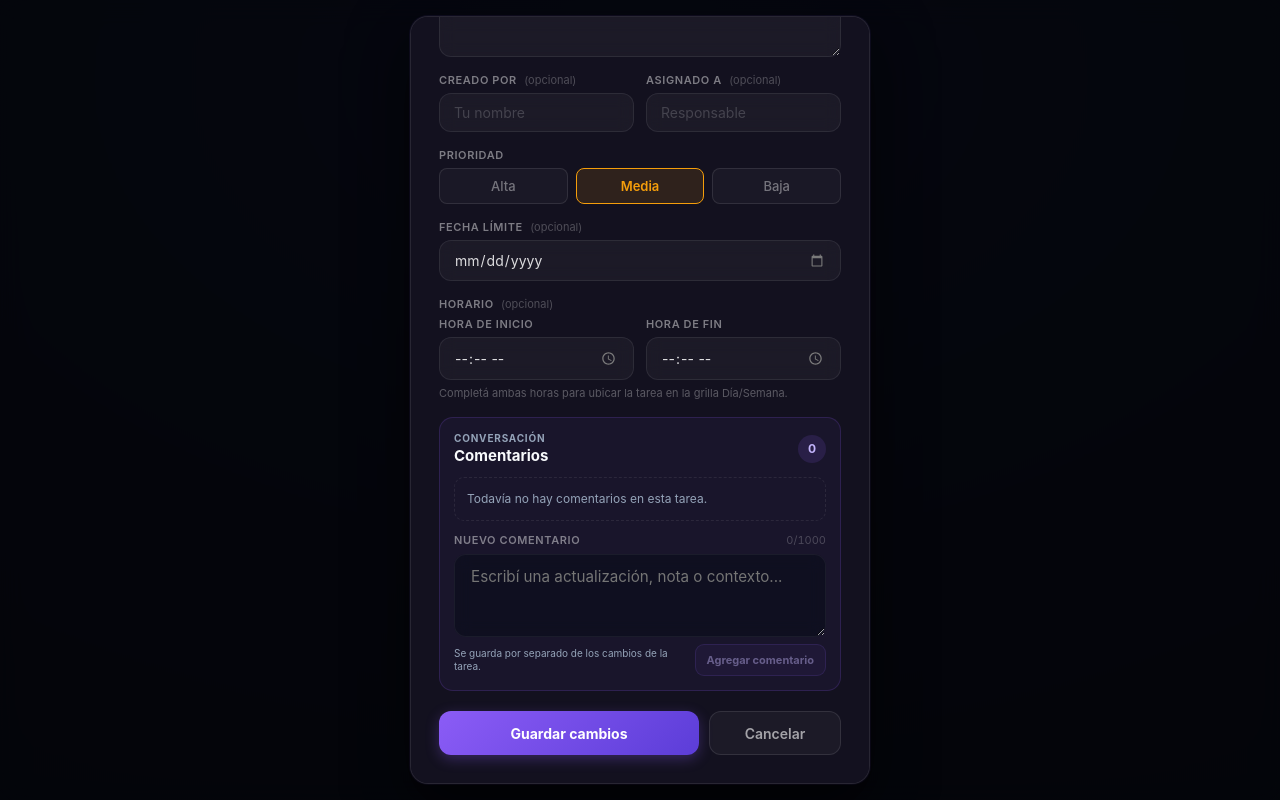
Test: TaskForm › B8.3 conserva el texto y muestra error si falla el comentario
(page scrolled)
Type "No perder este texto" into the text box labelled "Nuevo comentario" at x=640, y=596, box [454,554,826,637]
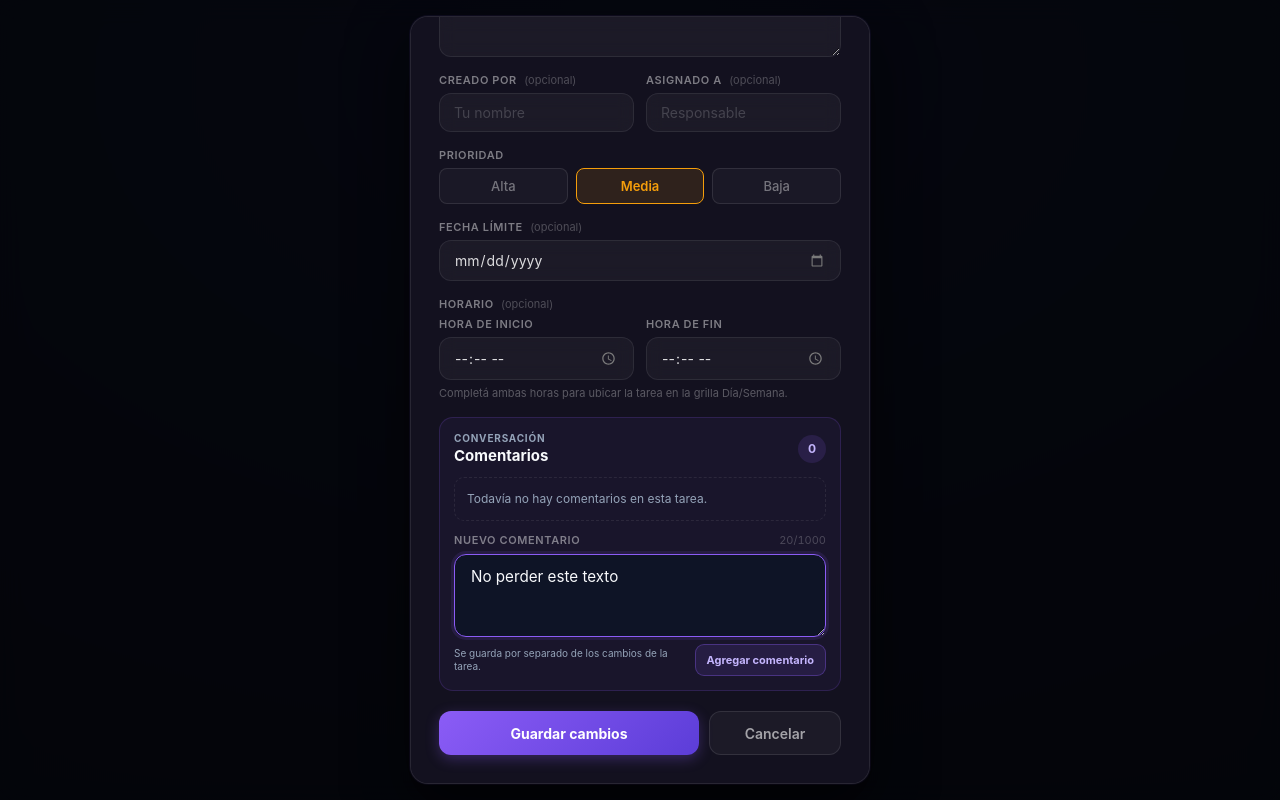
Click the button "Agregar comentario" at x=760, y=660, box [694,644,826,676]
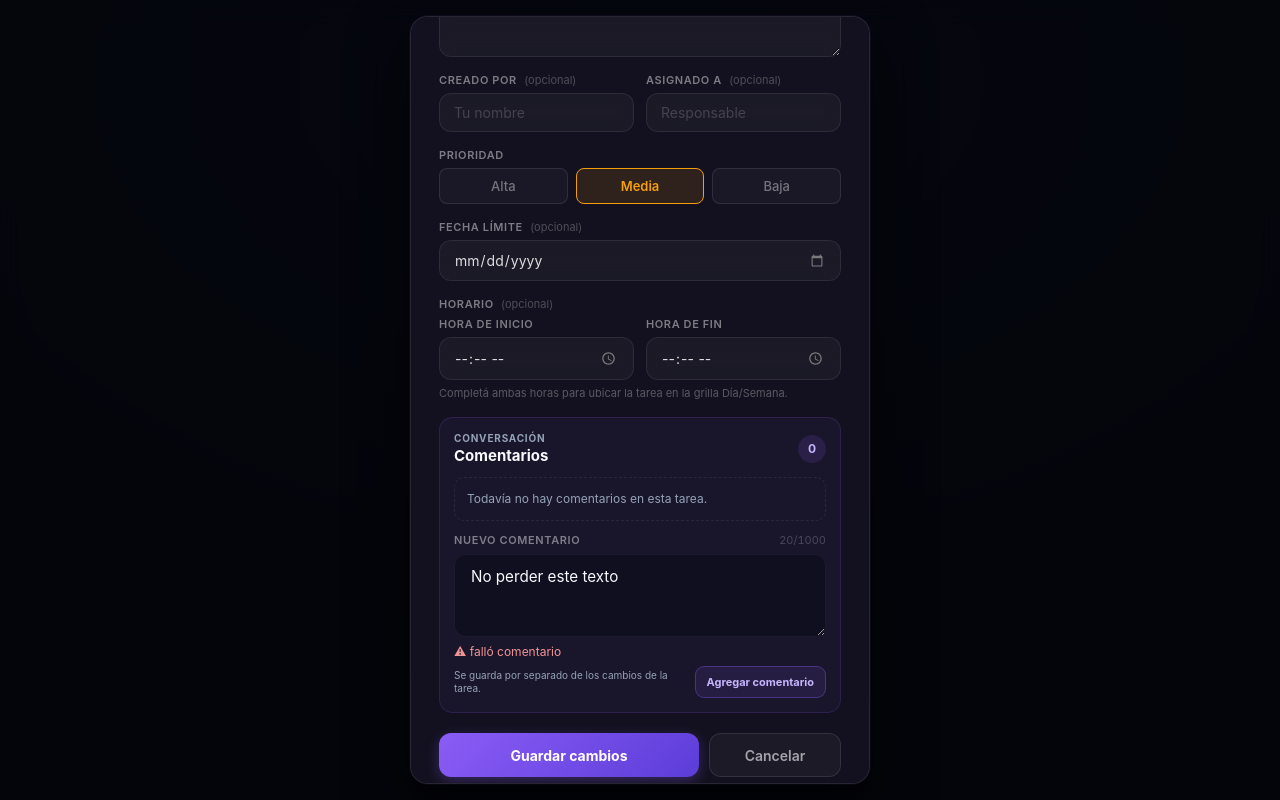
Result: the text "⚠ falló comentario" is shown at [454,644,561,659]
